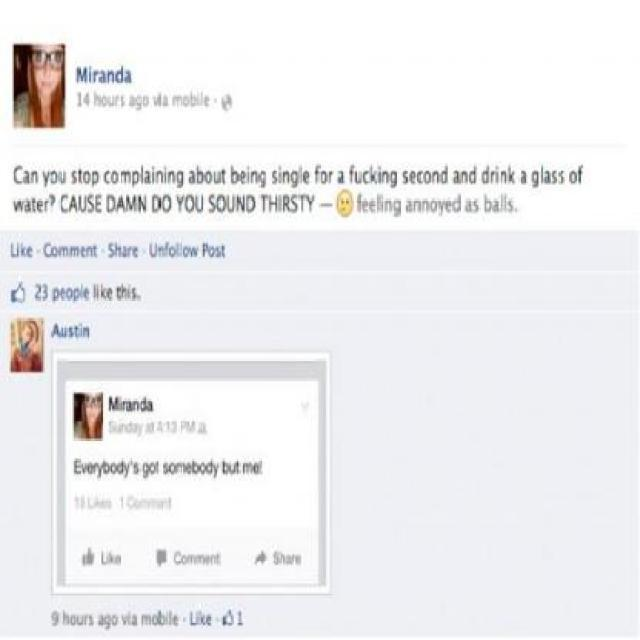1: (237, 610, 243, 626), (76, 92, 82, 106), (74, 494, 78, 508), (166, 420, 169, 434), (120, 495, 122, 508)
2: (36, 283, 42, 299)
3: (42, 284, 48, 300), (171, 420, 177, 434)
4: (83, 92, 89, 106), (156, 420, 162, 434)
8: (80, 496, 86, 510)
9: (51, 610, 60, 626)
A: (116, 194, 125, 212), (123, 69, 132, 85), (70, 194, 78, 212), (51, 322, 60, 338), (518, 170, 528, 184), (464, 198, 473, 213), (452, 170, 460, 186), (187, 170, 196, 184), (24, 198, 32, 213), (405, 197, 413, 212), (492, 198, 500, 213), (98, 69, 106, 83), (22, 170, 30, 184), (144, 170, 152, 184), (338, 170, 346, 184), (543, 170, 551, 184), (147, 399, 155, 413), (121, 245, 128, 258), (128, 94, 134, 108), (126, 398, 132, 412), (286, 552, 292, 566), (162, 94, 168, 108), (132, 422, 138, 433), (146, 423, 152, 434), (98, 614, 104, 624), (132, 614, 138, 624)
B: (230, 163, 239, 184), (197, 164, 205, 183), (484, 194, 492, 212), (190, 90, 196, 106), (222, 458, 228, 474), (158, 610, 164, 626), (103, 460, 109, 474), (192, 460, 198, 474)
C: (13, 163, 22, 184), (60, 194, 68, 212), (43, 242, 52, 258), (173, 550, 181, 566), (416, 170, 424, 184), (127, 494, 135, 508), (104, 170, 110, 184), (363, 170, 369, 184)
D: (106, 194, 115, 212), (247, 194, 256, 212), (469, 164, 477, 183), (452, 193, 460, 212), (152, 194, 160, 212), (115, 66, 123, 83), (482, 164, 489, 183), (441, 164, 448, 183), (139, 396, 147, 412), (116, 458, 124, 474), (205, 458, 213, 474), (126, 420, 132, 434)
E: (368, 198, 376, 213), (238, 170, 245, 186), (302, 170, 310, 184), (408, 170, 416, 184), (36, 198, 44, 212), (74, 460, 82, 474), (96, 194, 102, 212), (26, 245, 34, 258), (446, 198, 452, 213), (204, 94, 210, 108), (362, 198, 368, 212), (206, 613, 212, 627), (80, 245, 86, 258), (133, 245, 139, 258), (87, 462, 93, 475), (186, 461, 192, 474), (252, 462, 258, 475), (60, 288, 66, 300), (83, 288, 89, 300), (106, 288, 112, 300), (157, 498, 163, 510), (204, 554, 210, 566), (296, 554, 302, 566), (114, 554, 120, 566), (172, 614, 178, 626), (100, 498, 106, 509)
F: (314, 162, 320, 184), (350, 162, 355, 184), (577, 164, 583, 182), (356, 193, 361, 212), (166, 241, 168, 256)
G: (290, 170, 299, 188), (176, 170, 184, 188), (258, 170, 266, 188), (532, 170, 540, 188), (393, 200, 401, 217), (391, 170, 397, 188), (142, 460, 148, 478), (134, 95, 140, 111), (104, 614, 110, 630)
H: (268, 194, 278, 212), (121, 283, 128, 299), (94, 91, 100, 107), (114, 241, 120, 257), (62, 609, 68, 625), (280, 550, 286, 564)
I: (278, 165, 282, 184), (278, 194, 282, 212), (88, 66, 92, 83), (118, 396, 122, 412), (246, 164, 249, 183), (158, 93, 162, 107), (164, 166, 167, 183), (197, 93, 200, 107), (16, 243, 19, 257), (96, 284, 99, 298), (93, 495, 96, 508), (152, 165, 154, 184), (378, 165, 380, 184), (382, 194, 384, 212), (496, 165, 498, 182), (128, 283, 130, 299), (80, 322, 82, 336), (106, 550, 108, 564), (128, 610, 130, 624), (166, 610, 168, 624), (196, 612, 198, 626)
K: (508, 164, 516, 183), (370, 164, 376, 183), (95, 494, 102, 508), (100, 283, 106, 299), (200, 610, 206, 626), (20, 241, 26, 257), (110, 552, 115, 565)
L: (10, 242, 16, 258), (101, 550, 107, 566), (190, 610, 196, 626), (88, 496, 94, 510), (540, 163, 543, 184), (140, 164, 143, 183), (504, 194, 507, 211), (200, 91, 203, 107), (93, 284, 96, 298), (300, 164, 302, 183), (500, 193, 502, 212), (378, 194, 380, 211), (176, 242, 178, 256), (179, 242, 181, 256), (170, 610, 172, 624), (81, 284, 82, 298)
M: (126, 194, 137, 212), (77, 67, 88, 84), (119, 170, 132, 184), (109, 396, 118, 412), (187, 420, 196, 434), (173, 95, 182, 108), (70, 245, 79, 258), (243, 462, 252, 475), (142, 612, 150, 626), (148, 498, 158, 509), (140, 498, 149, 510), (60, 245, 68, 258), (176, 462, 184, 475), (196, 554, 204, 566), (187, 554, 196, 564)
N: (237, 194, 246, 212), (138, 195, 147, 212), (106, 70, 115, 84), (155, 170, 163, 184), (250, 170, 258, 184), (432, 170, 440, 184), (460, 170, 468, 184), (499, 170, 507, 184), (412, 198, 420, 212), (282, 170, 290, 183), (82, 326, 89, 339), (168, 170, 175, 183), (32, 170, 38, 184), (382, 170, 388, 184), (386, 198, 392, 212), (422, 198, 428, 212), (133, 399, 139, 412), (211, 554, 217, 566), (158, 246, 164, 257), (120, 423, 126, 434), (162, 498, 168, 509), (86, 246, 92, 256)
O: (162, 194, 172, 213), (184, 194, 193, 212), (217, 194, 226, 212), (422, 170, 432, 184), (50, 170, 59, 184), (83, 170, 91, 184), (110, 170, 118, 184), (205, 170, 212, 186), (319, 170, 327, 184), (569, 170, 577, 184), (430, 198, 438, 212), (111, 612, 118, 626), (168, 245, 175, 258), (143, 94, 149, 108), (66, 286, 72, 300), (170, 462, 176, 476), (152, 612, 158, 626), (52, 245, 58, 258), (208, 245, 214, 258), (110, 462, 116, 475), (150, 462, 156, 475), (200, 462, 206, 475), (182, 245, 188, 258), (182, 94, 188, 106), (181, 554, 187, 566), (101, 95, 107, 106), (134, 498, 140, 509), (70, 614, 76, 624)
P: (92, 170, 100, 188), (132, 170, 140, 187), (53, 288, 59, 304), (202, 242, 208, 258), (73, 288, 79, 302), (180, 420, 186, 434)
R: (282, 194, 290, 212), (92, 70, 99, 84), (328, 170, 334, 184), (490, 170, 495, 184), (45, 199, 49, 212), (122, 399, 126, 412), (84, 614, 88, 624), (116, 96, 119, 107), (93, 462, 96, 473), (128, 246, 130, 256), (292, 554, 294, 564)
S: (208, 194, 217, 212), (87, 194, 95, 212), (290, 194, 298, 212), (558, 170, 564, 186), (108, 242, 114, 258), (273, 550, 279, 566), (71, 170, 77, 184), (271, 170, 277, 184), (402, 170, 408, 184), (552, 170, 558, 184), (472, 198, 478, 212), (508, 198, 514, 212), (108, 420, 114, 434), (214, 245, 220, 258), (133, 462, 139, 475), (162, 462, 168, 475), (120, 94, 126, 106), (68, 327, 74, 338), (106, 498, 112, 509), (88, 614, 94, 624), (132, 287, 136, 301)
T: (298, 194, 307, 212), (260, 195, 268, 212), (78, 168, 84, 184), (221, 168, 227, 184), (30, 197, 36, 212), (220, 244, 226, 258), (74, 324, 80, 338), (150, 420, 156, 434), (116, 286, 121, 300), (235, 460, 240, 474), (94, 243, 98, 257), (168, 496, 172, 509), (217, 552, 220, 566), (156, 460, 158, 474)
U: (227, 194, 236, 213), (78, 194, 87, 212), (194, 194, 203, 212), (149, 241, 157, 257), (354, 170, 362, 183), (60, 170, 66, 184), (214, 170, 220, 183), (114, 422, 120, 435), (108, 95, 114, 106), (61, 327, 67, 338), (230, 462, 236, 473), (77, 614, 83, 624)
V: (121, 612, 128, 626), (81, 462, 87, 475), (152, 95, 158, 106)
W: (13, 199, 24, 212), (190, 245, 198, 258)
Y: (306, 194, 316, 213), (41, 170, 50, 188), (176, 194, 184, 212), (97, 462, 103, 480), (438, 200, 444, 217), (123, 463, 129, 479), (213, 463, 219, 479), (137, 424, 143, 438)
